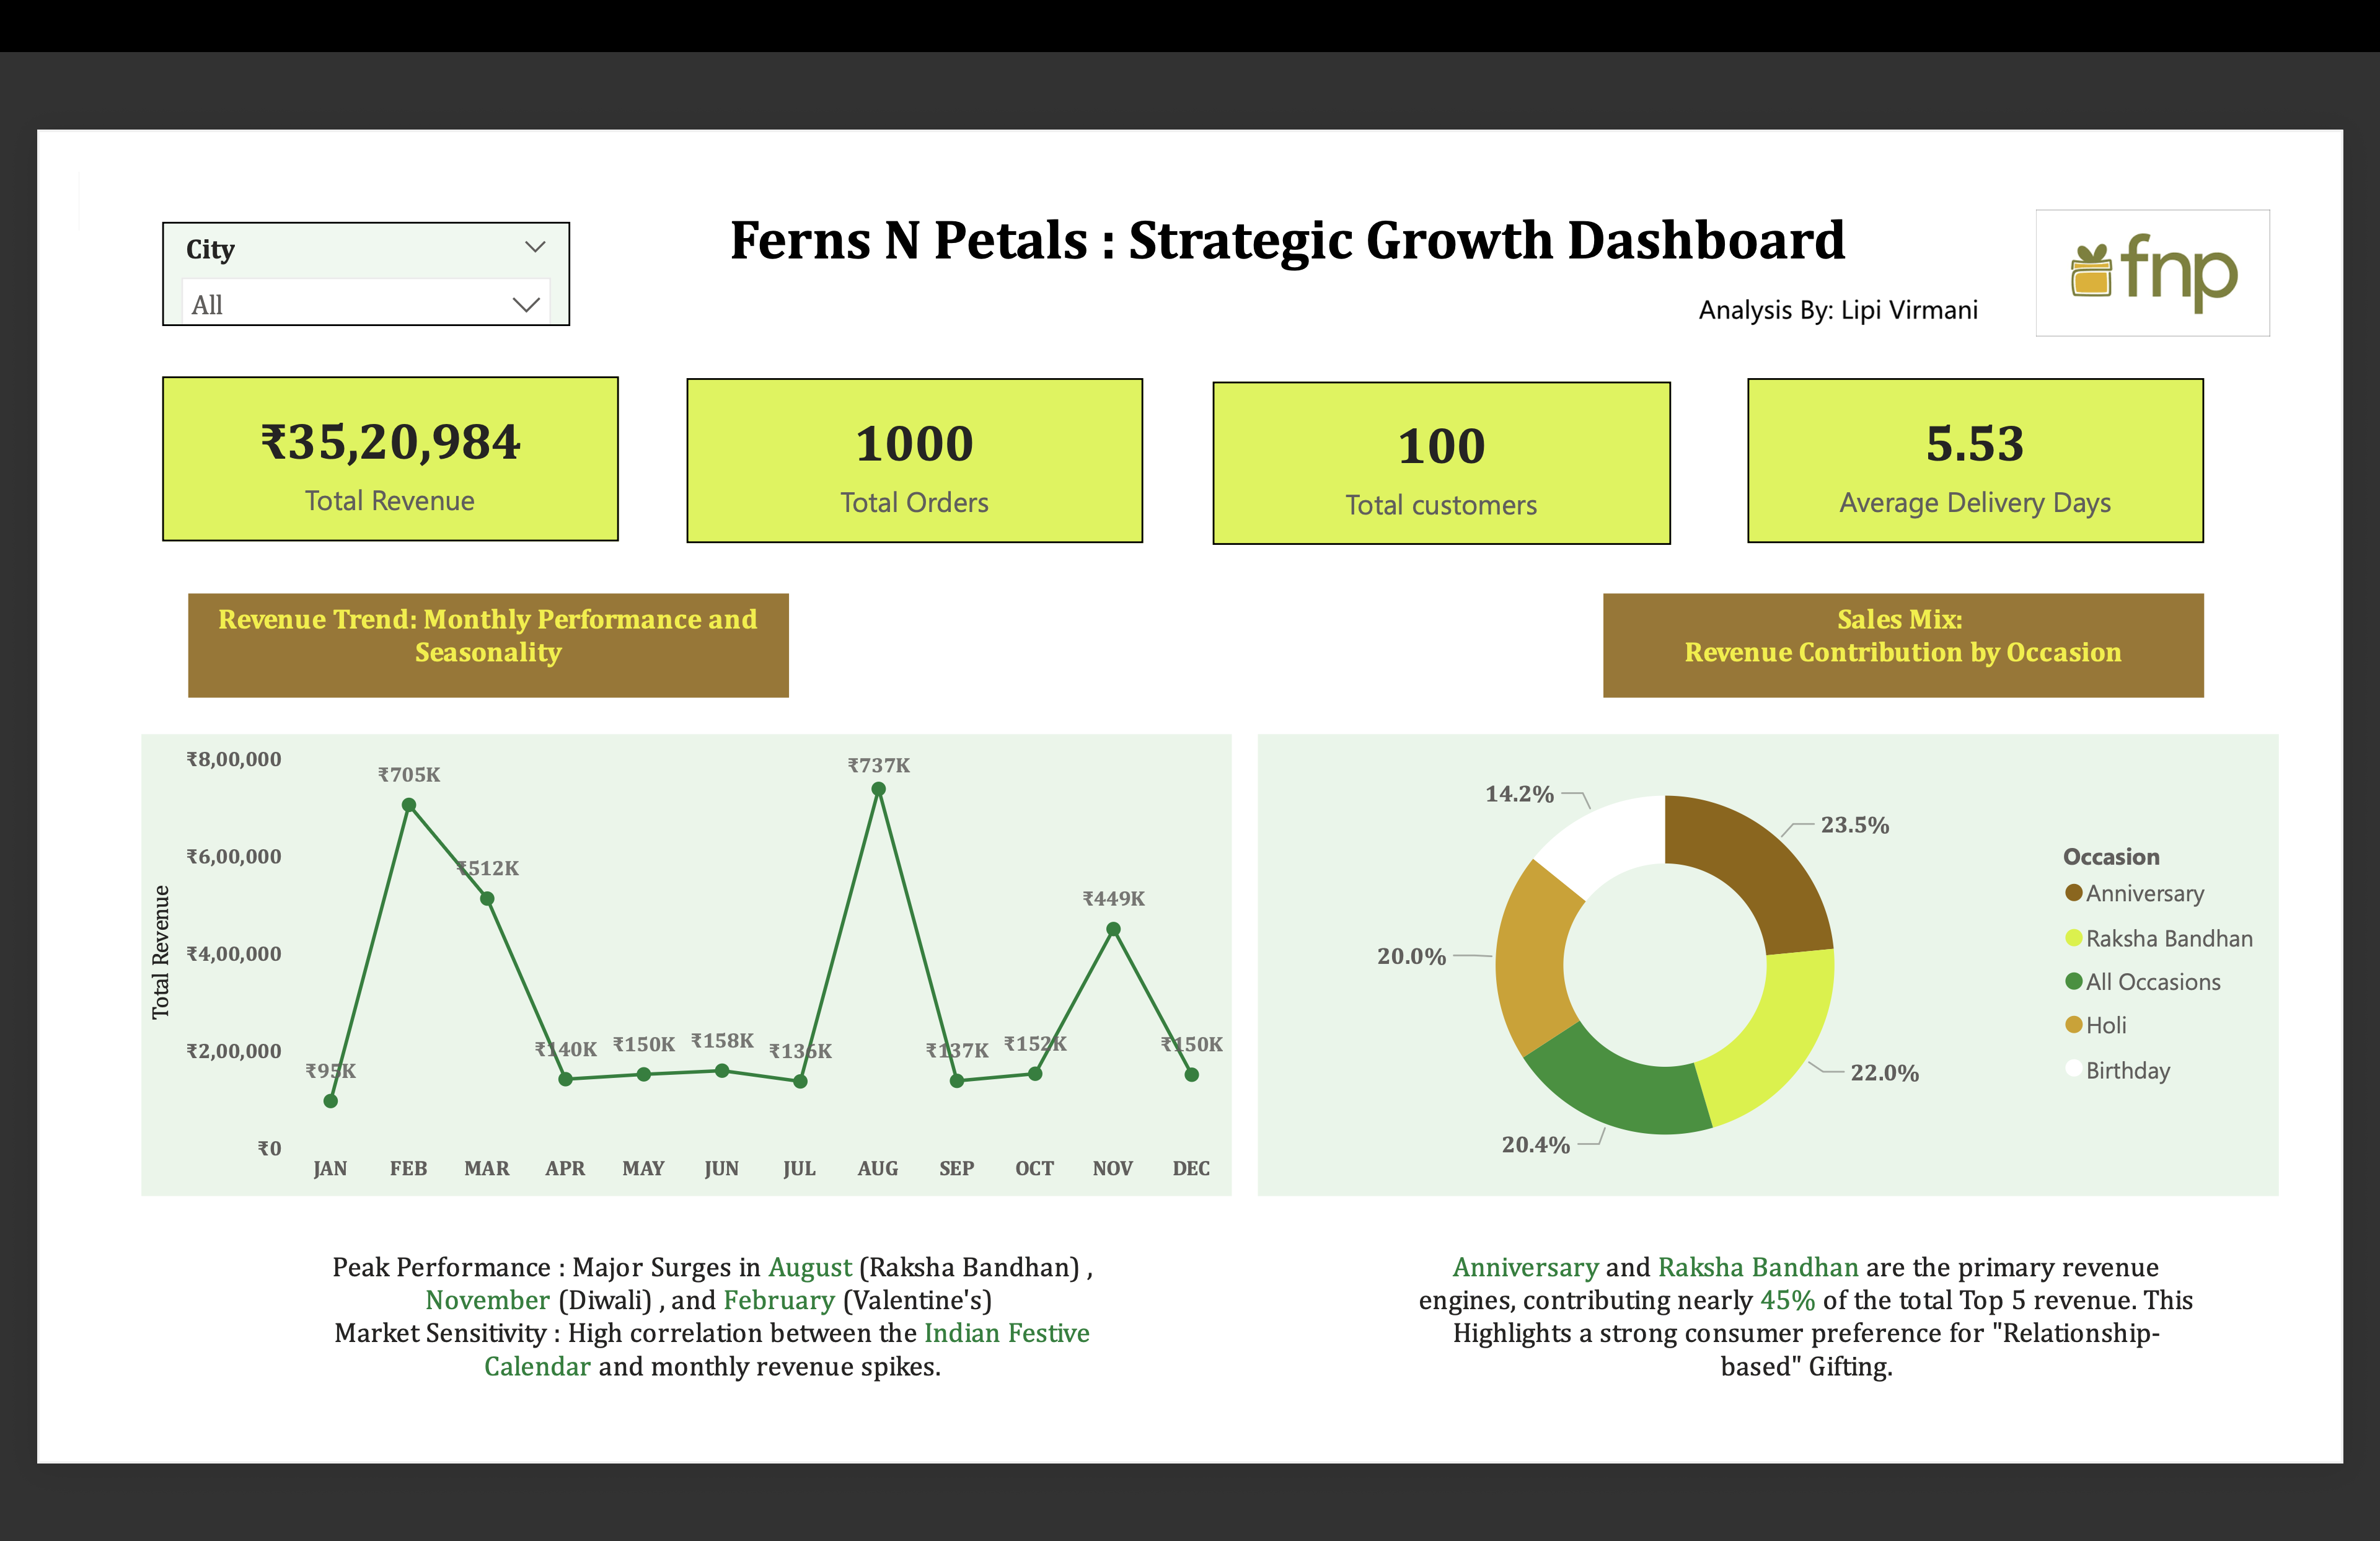

The page's visual inventory and layout, read from the dashboard file:
{"tool":"powerbi","page":{"name":"Overview","canvas":[1280,720],"ordinal":0},"visuals":[{"type":"textbox","box":[365,15.1,669.6,57.6],"z":0},{"type":"image","box":[1122.5,15.1,144.1,86.4],"z":1000},{"type":"card","fields":{"Values":["customers.Total Revenue"]},"box":[48,118,263.5,94.7],"z":2000},{"type":"card","fields":{"Values":["customers.Total Orders"]},"box":[349.9,119.4,263.5,94.7],"z":3000},{"type":"card","fields":{"Values":["customers.Total customers"]},"box":[653.2,120.8,263.5,94.7],"z":4000},{"type":"card","title":"Average Delivery Days","fields":{"Values":["customers.Avg_Delivery_Days"]},"box":[960.6,119.4,263.5,94.7],"z":5000},{"type":"lineChart","fields":{"Category":["orders.Month_short"],"Y":["customers.Total Revenue"]},"box":[35.7,323.8,628.5,266.2],"z":6000},{"type":"donutChart","fields":{"Y":["customers.Total Revenue"],"Category":["orders.Occasion"]},"box":[679.2,323.8,587.3,266.2],"z":7000},{"type":"slicer","fields":{"Values":["customers.City"]},"box":[48,28.8,234.6,60.4],"z":8000},{"type":"textbox","box":[63.1,242.9,345.8,60.4],"z":9000},{"type":"textbox","box":[878.2,242.9,345.8,60.4],"z":10000},{"type":"textbox","box":[765.7,616.1,458.3,86.4],"z":11000},{"type":"textbox","box":[116.6,616.1,496.7,86.4],"z":12000}]}

Visuals, with their boxes on the page's 1280x720 design canvas (x1, y1, x2, y2). These are canvas units, not pixel positions in the 2380x1541 screenshot, which may show the page scaled, cropped or inside an application window:
textbox: bbox=[365, 15, 1035, 73]
image: bbox=[1122, 15, 1267, 102]
card - customers.Total Revenue: bbox=[48, 118, 312, 213]
card - customers.Total Orders: bbox=[350, 119, 613, 214]
card - customers.Total customers: bbox=[653, 121, 917, 216]
"Average Delivery Days" card: bbox=[961, 119, 1224, 214]
lineChart - orders.Month_short x customers.Total Revenue: bbox=[36, 324, 664, 590]
donutChart - customers.Total Revenue x orders.Occasion: bbox=[679, 324, 1266, 590]
slicer - customers.City: bbox=[48, 29, 283, 89]
textbox: bbox=[63, 243, 409, 303]
textbox: bbox=[878, 243, 1224, 303]
textbox: bbox=[766, 616, 1224, 702]
textbox: bbox=[117, 616, 613, 702]
